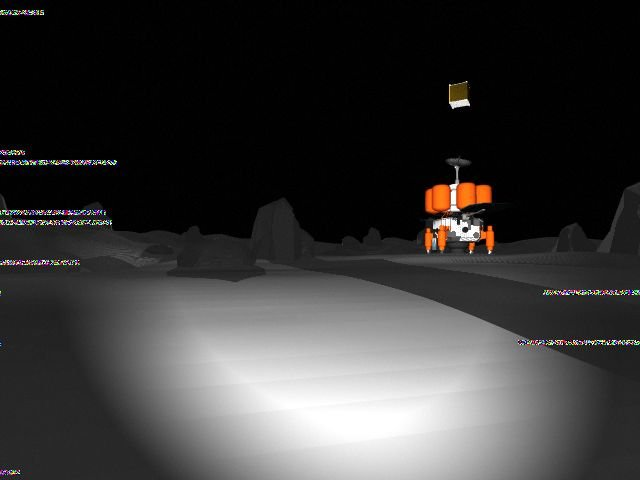cubesat: (441, 75, 475, 113)
